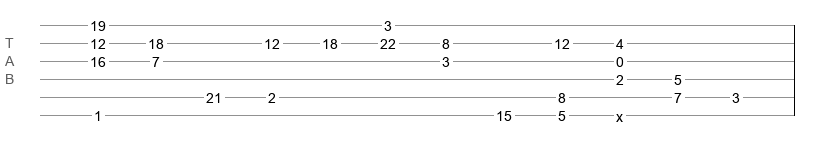0: (616, 54, 624, 64)
1: (94, 108, 102, 118)
12: (90, 36, 106, 46), (264, 36, 280, 46), (554, 36, 570, 46)
15: (496, 108, 512, 118)
16: (90, 54, 106, 64)
18: (148, 36, 164, 46), (322, 36, 338, 46)
19: (90, 18, 106, 28)
2: (268, 90, 276, 100), (616, 72, 624, 82)
21: (206, 90, 222, 100)
22: (380, 36, 396, 46)
3: (384, 18, 392, 28), (442, 54, 450, 64), (732, 90, 740, 100)
4: (616, 36, 624, 46)
5: (558, 108, 566, 118), (674, 72, 682, 82)
7: (152, 54, 160, 64), (674, 90, 682, 100)
8: (442, 36, 450, 46), (558, 90, 566, 100)
x: (616, 109, 623, 117)
